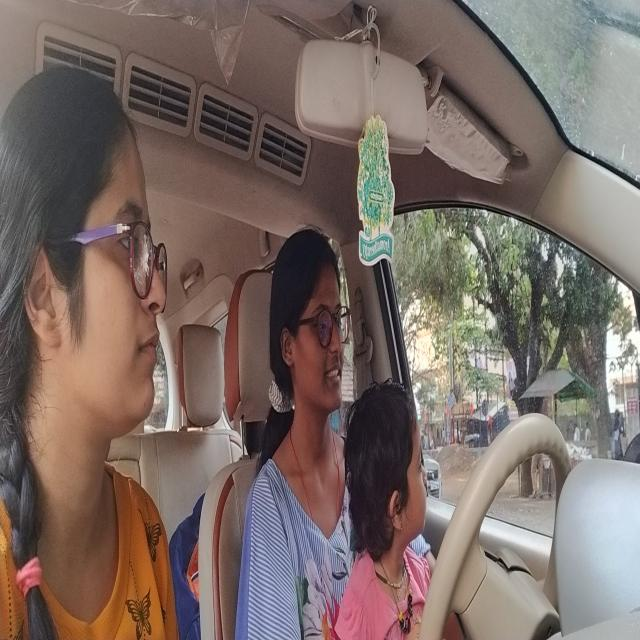child: (346, 379, 432, 556)
person: (0, 66, 175, 454), (272, 216, 348, 428)
